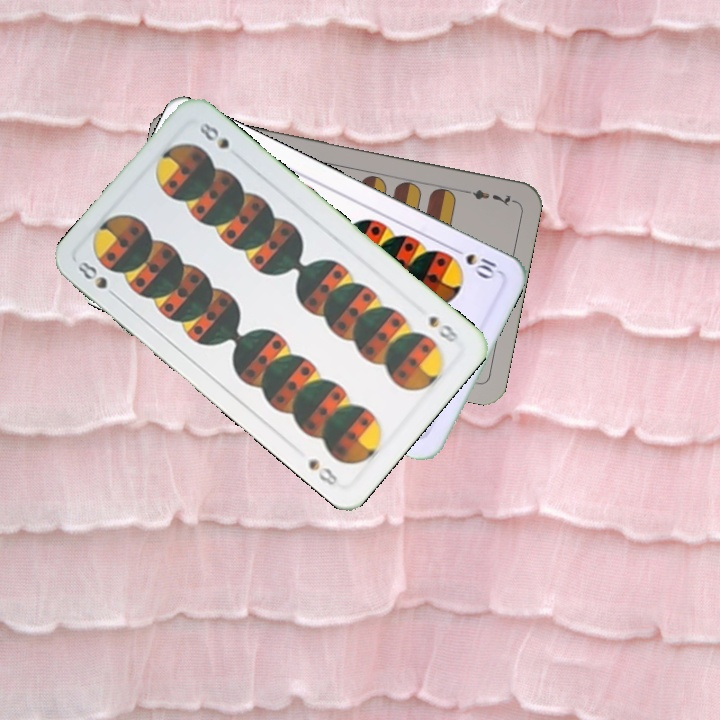E7: (458, 185, 516, 209)
S10: (447, 243, 499, 282)
S8: (72, 257, 122, 302), (425, 311, 461, 346)
